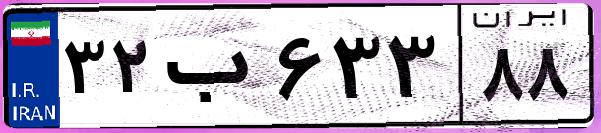2: (110, 28, 158, 98)
3: (385, 28, 445, 110), (330, 28, 385, 110), (57, 26, 110, 100)
6: (270, 28, 330, 110)
8: (475, 38, 525, 113), (525, 38, 570, 115)
ب: (158, 20, 270, 120)
